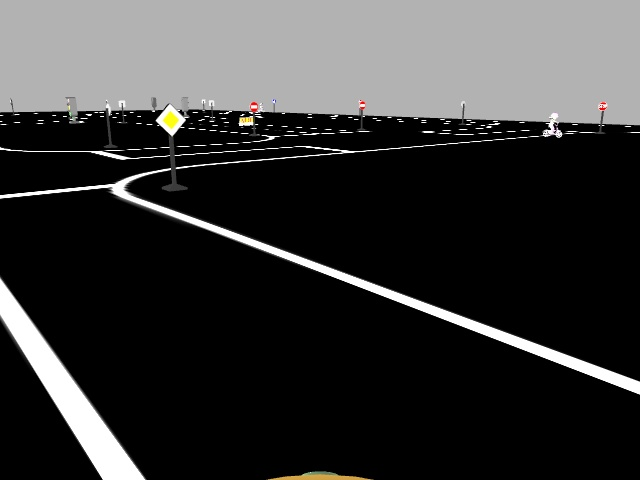Priority: (154, 103, 185, 134)
